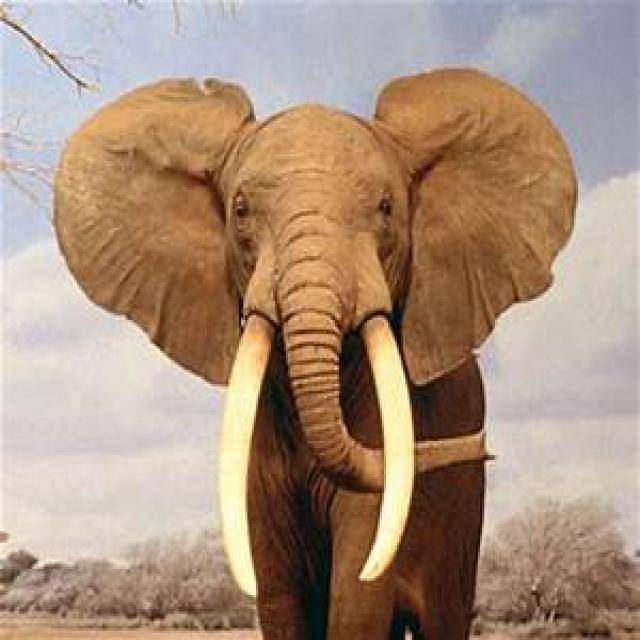elephant: (53, 69, 580, 640)
